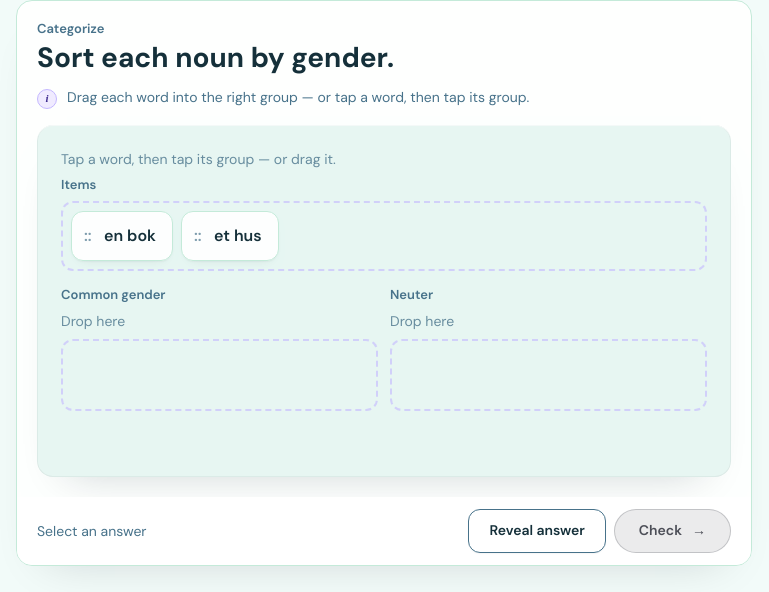
FlashCardCategorize › can return a chip to the tray by activating an armed placed chip again
The image size is (769, 592).
Place both items.
Step 1. Click the button "en bok" → x=122, y=236, box [71,211,173,261]
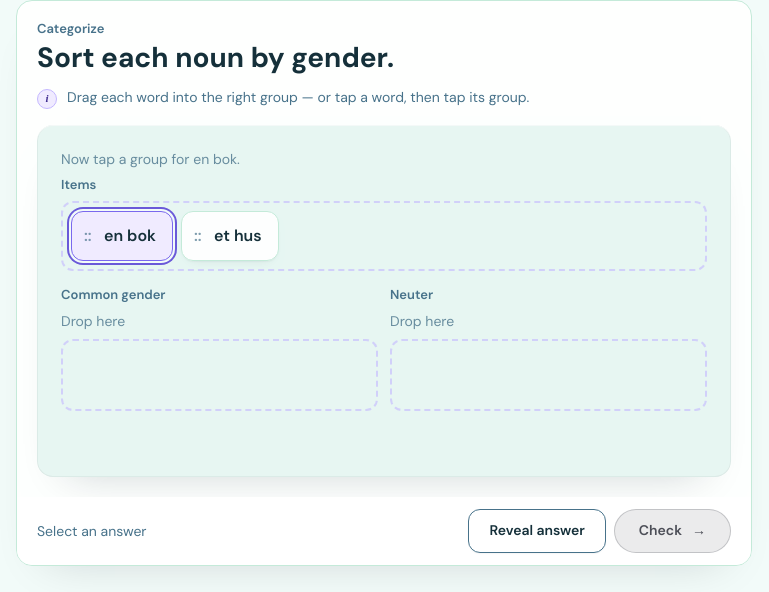
Step 2. Click the button with test id "drop-zone" → x=220, y=375, box [61,339,378,411]
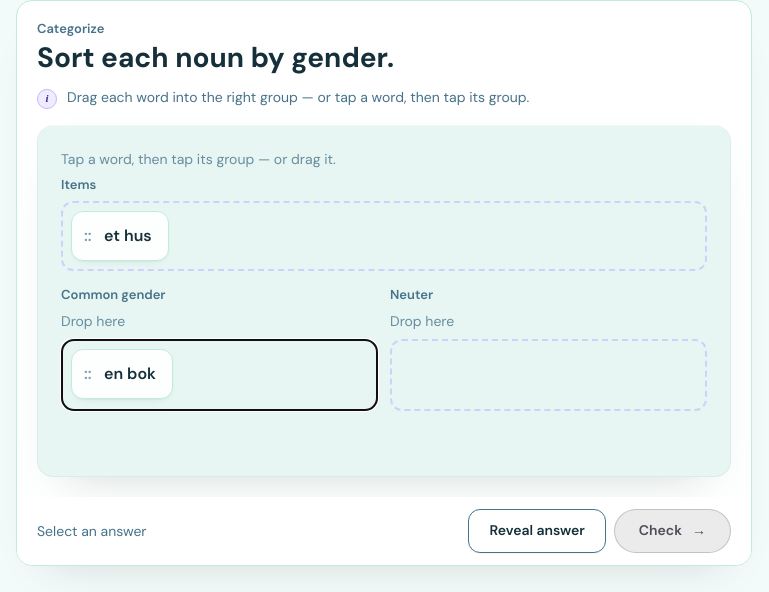
Step 3. Click the button "et hus" → x=120, y=236, box [71,211,169,261]
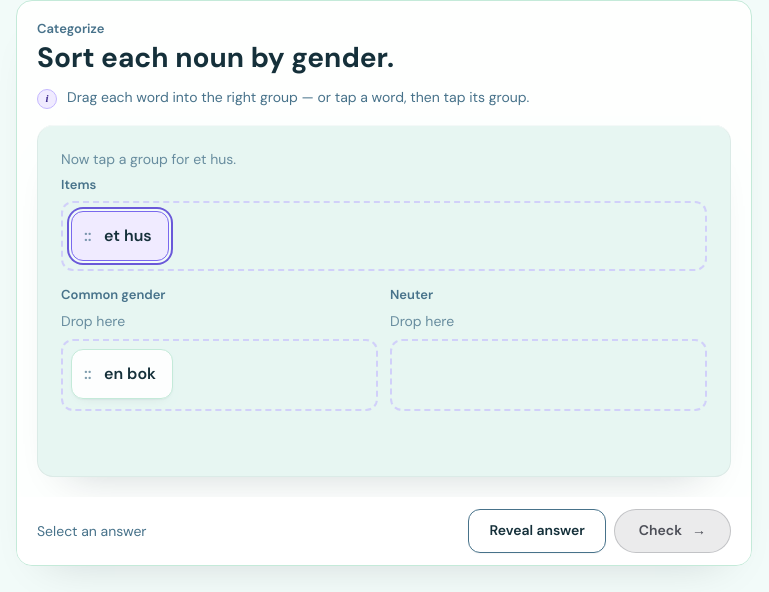
Step 4. Click the button with test id "drop-zone" → x=548, y=375, box [390,339,707,411]
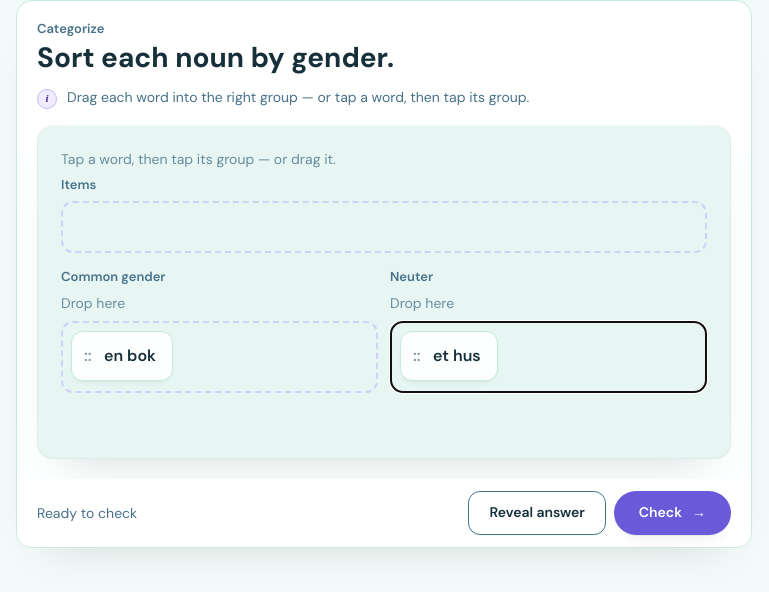
Arm "en bok" (in the common bucket) then activate it again to return it.
Step 5. Click the button "en bok" → x=122, y=356, box [71,331,173,381]
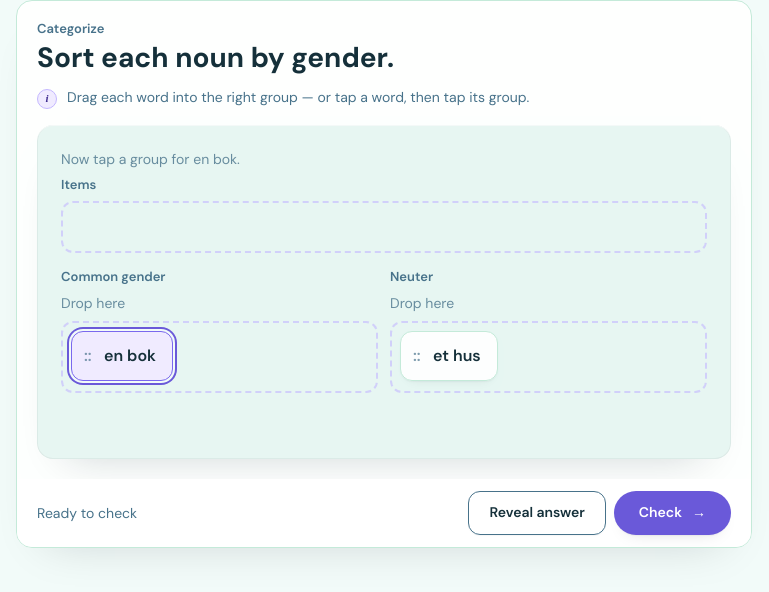
Step 6. Click the button "en bok" → x=122, y=356, box [71,331,173,381]
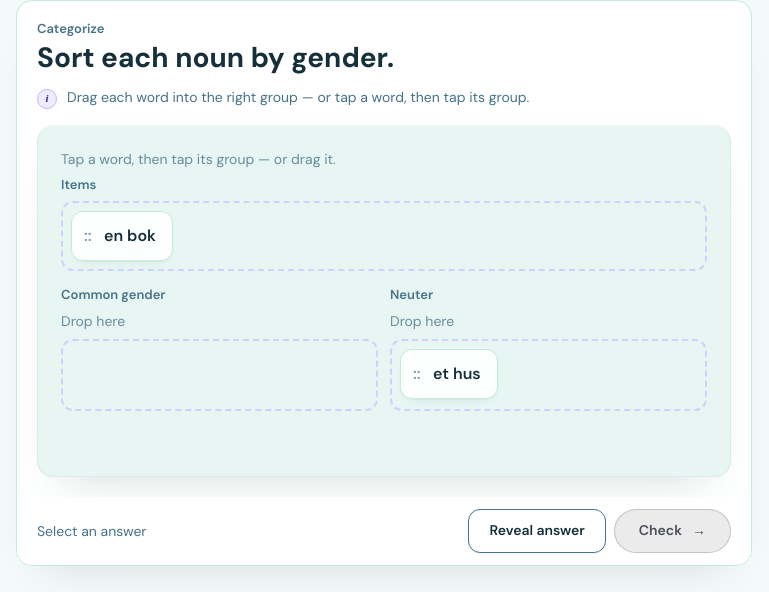
Expected: the button "Check →" is disabled, [614,509,731,553]
